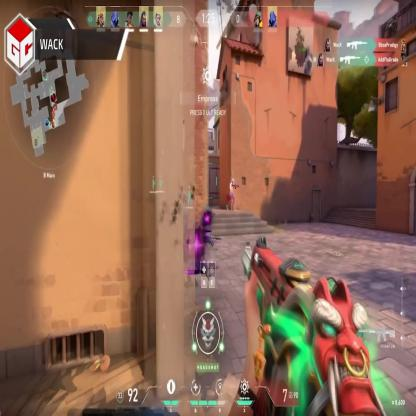enemy: (179, 192, 189, 258), (228, 177, 236, 213)
enemy_head: (180, 193, 186, 207), (232, 178, 235, 185)
